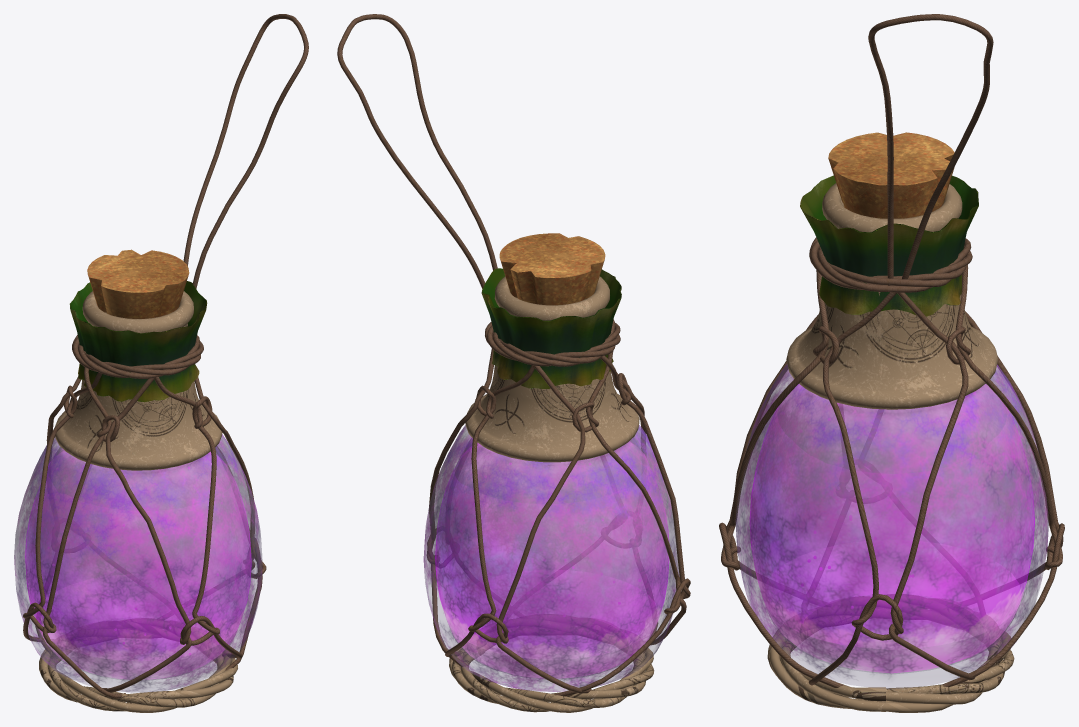
File: magic_potion.glb
3 views of the same model, side by side, from view 1: azimuth 30°, elevation 25°; view 2: azimuth 150°, elevation 25°; view 3: azimuth 270°, elevation 25° (orthographic). The views are drawn at different scales.
Parts seen in each view (by area): view 1: Magic_Potion, Liquid, Mouth_bottle2, Algae, Bottom_Rope, Plug1, Upper_Rope, Central_Rope, Central_Rope_copy7, Central_Rope_copy1, Central_Rope_copy4, Top_Rope (+2 smaller); view 2: Magic_Potion, Liquid, Mouth_bottle2, Algae, Bottom_Rope, Plug1, Upper_Rope, Central_Rope_copy4, Central_Rope_copy3, Central_Rope_copy2, Top_Rope, Central_Rope_copy7 (+1 smaller); view 3: Magic_Potion, Liquid, Mouth_bottle2, Algae, Bottom_Rope, Plug1, Upper_Rope, Central_Rope, Central_Rope_copy3, Central_Rope_copy6, Central_Rope_copy5, Top_Rope (+2 smaller).
Boxes of the visible parts, <box> form: Magic_Potion: <box>14,434,262,692</box>; Liquid: <box>25,451,251,679</box>; Mouth_bottle2: <box>54,291,222,470</box>; Algae: <box>69,281,207,402</box>; Bottom_Rope: <box>39,618,237,712</box>; Plug1: <box>87,249,189,318</box>; Upper_Rope: <box>183,14,308,288</box>; Central_Rope: <box>154,376,242,658</box>; Central_Rope_copy7: <box>42,367,125,698</box>; Central_Rope_copy1: <box>102,378,191,692</box>; Central_Rope_copy4: <box>23,372,102,642</box>; Top_Rope: <box>72,335,203,378</box>; Magic_Potion: <box>423,425,679,691</box>; Liquid: <box>435,442,669,678</box>; Mouth_bottle2: <box>465,276,639,462</box>; Algae: <box>481,268,621,388</box>; Bottom_Rope: <box>449,614,654,712</box>; Plug1: <box>499,233,605,305</box>; Upper_Rope: <box>337,14,497,288</box>; Central_Rope_copy4: <box>554,339,690,696</box>; Central_Rope_copy3: <box>445,365,534,656</box>; Central_Rope_copy2: <box>496,365,591,693</box>; Top_Rope: <box>485,319,620,366</box>; Central_Rope_copy7: <box>600,355,690,645</box>; Magic_Potion: <box>735,364,1048,689</box>; Liquid: <box>750,384,1034,673</box>; Mouth_bottle2: <box>786,183,998,409</box>; Algae: <box>800,175,978,316</box>; Bottom_Rope: <box>767,594,1014,712</box>; Plug1: <box>828,132,954,218</box>; Upper_Rope: <box>868,14,993,285</box>; Central_Rope: <box>719,248,848,687</box>; Central_Rope_copy3: <box>941,264,1064,687</box>; Central_Rope_copy6: <box>808,292,903,685</box>; Central_Rope_copy5: <box>889,292,975,680</box>; Top_Rope: <box>809,237,972,292</box>.
Size of the model in its own units: 0.0997 by 0.1963 by 0.0812.
17 materials, 17 textured.
